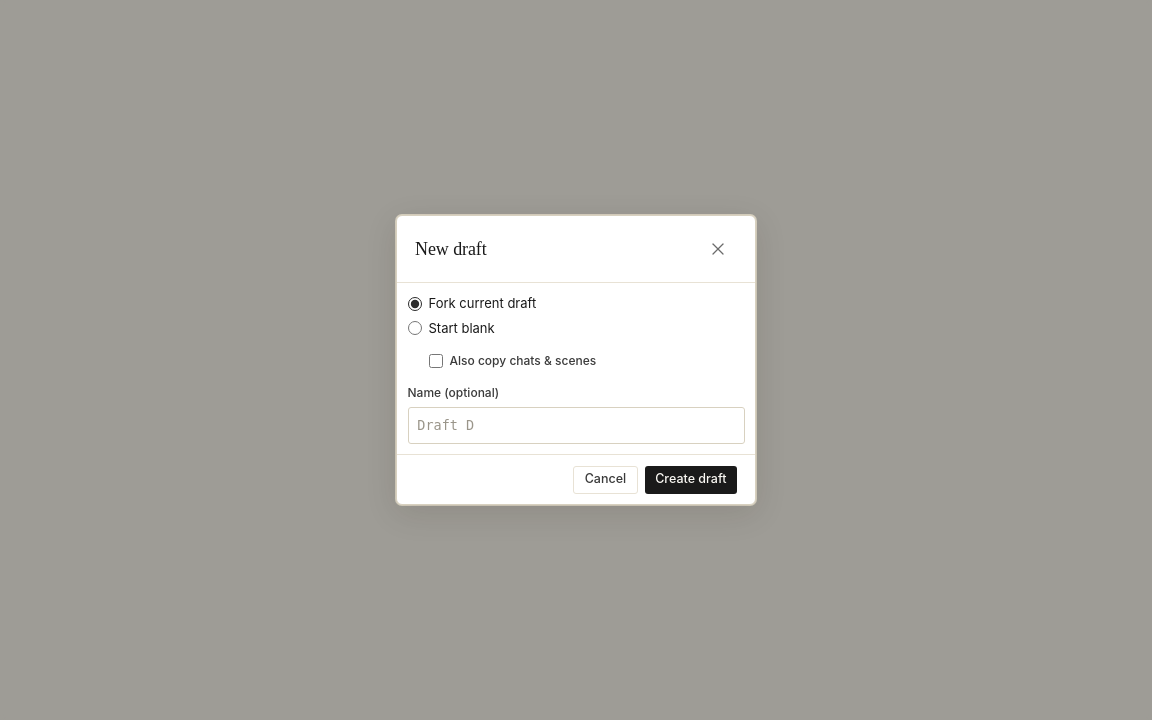
Test case: NewDraftDialog › [6ze] copy-chats checkbox shows only for fork mode
The width and height of the screenshot is (1152, 720).
Expected: the checkbox with test id "new-draft-copy-chats" is shown, [428, 354, 442, 368]
Click the radio button labelled "Start blank": [414, 328] box [408, 321, 422, 335]
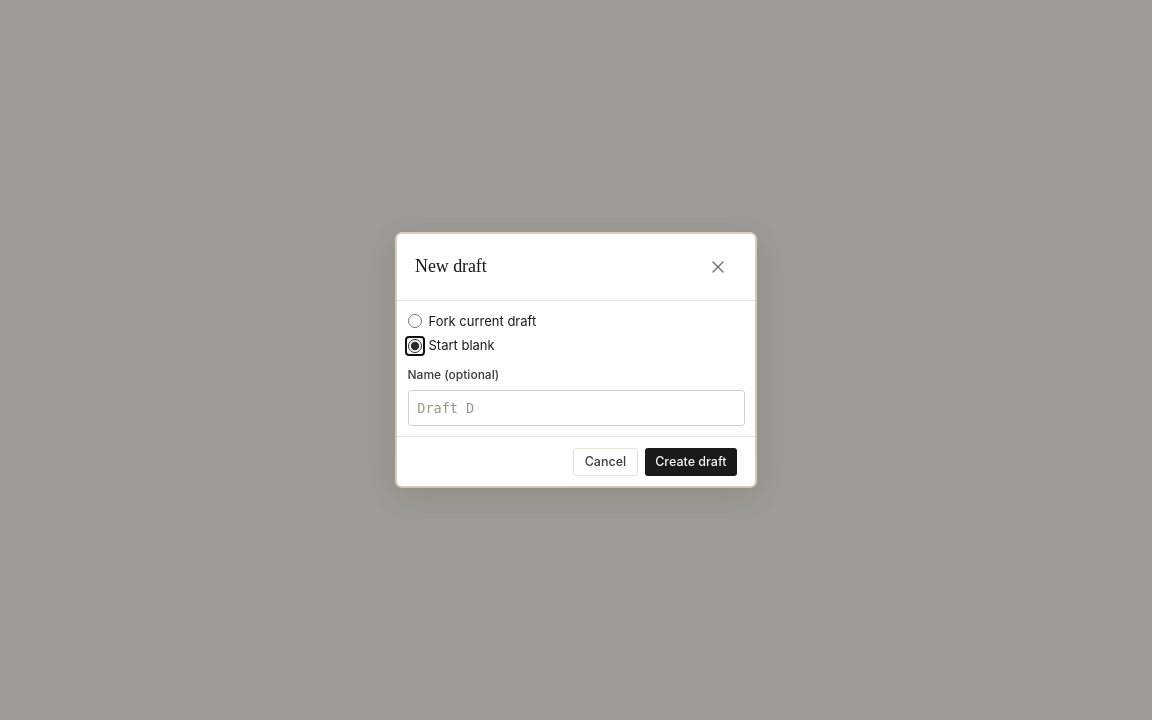
Expected: the checkbox with test id "new-draft-copy-chats" is gone
